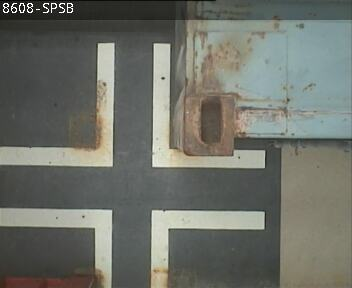groundmarker_1: (1, 42, 266, 168), (1, 206, 264, 285)
